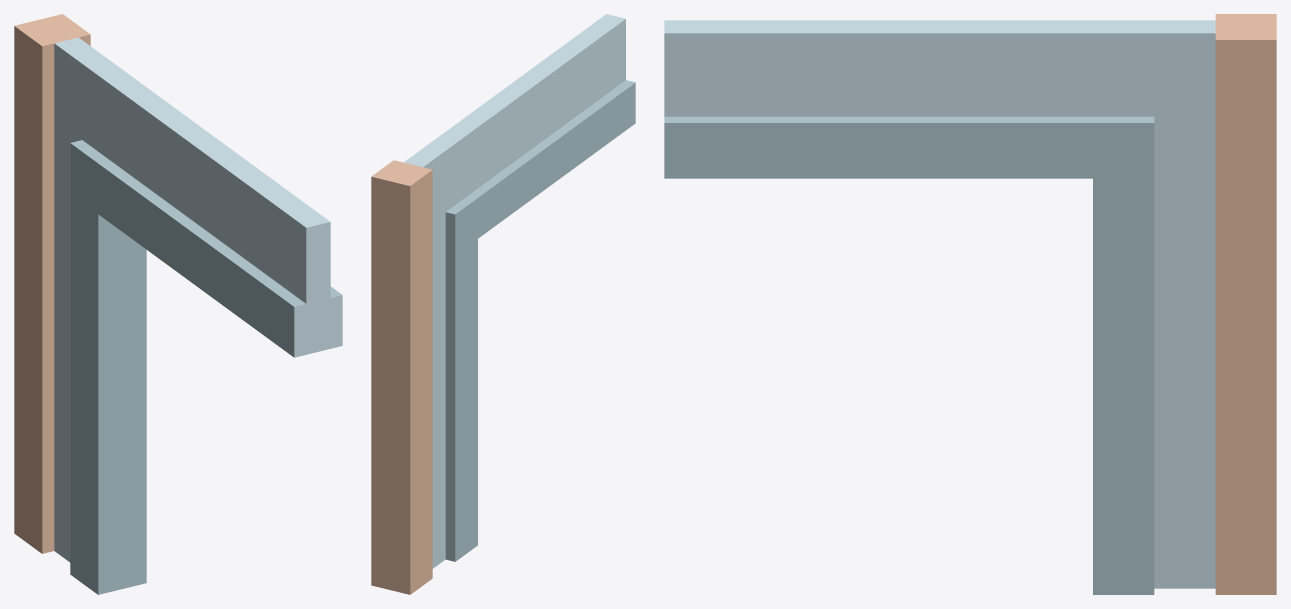
3 renders of one model, left to right at view 1: azimuth 30°, elevation 25°; view 2: azimuth 150°, elevation 25°; view 3: azimuth 270°, elevation 25°, orthographic. The views are drawn at different scales.
Visible parts, largest first — view 1: wallDoorwaySquareWide; view 2: wallDoorwaySquareWide; view 3: wallDoorwaySquareWide.
Part boxes in pixels (x1,y1,x2,y2): wallDoorwaySquareWide: (14,14,342,594); wallDoorwaySquareWide: (371,14,635,594); wallDoorwaySquareWide: (664,14,1276,594).
Bounding box in the file's own units: 0.1 × 1 × 1.
